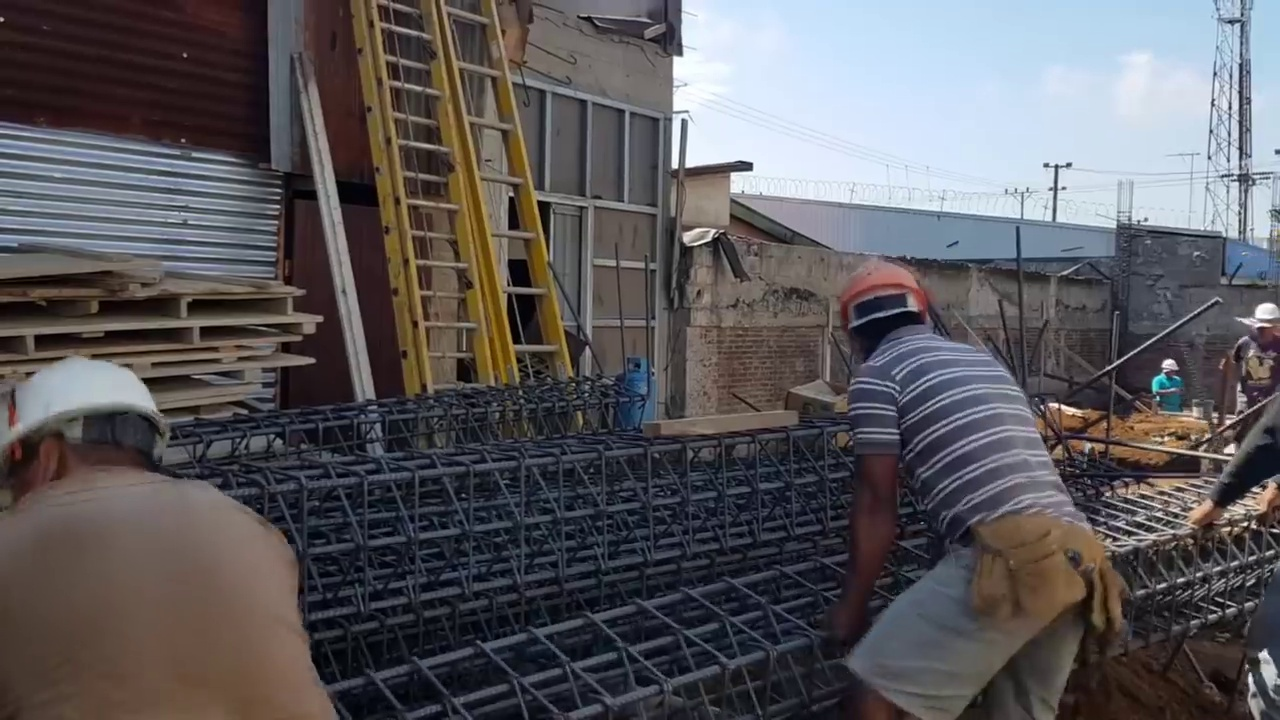helmet: (0, 360, 167, 471), (831, 256, 934, 352), (1250, 301, 1280, 324), (1160, 360, 1180, 372)
helmet-on: (0, 354, 172, 504), (828, 259, 938, 367), (1247, 302, 1280, 347), (1160, 359, 1180, 379)
person: (818, 243, 1136, 720), (0, 354, 338, 718), (1194, 397, 1280, 695), (1220, 301, 1280, 452), (1151, 360, 1191, 410)
